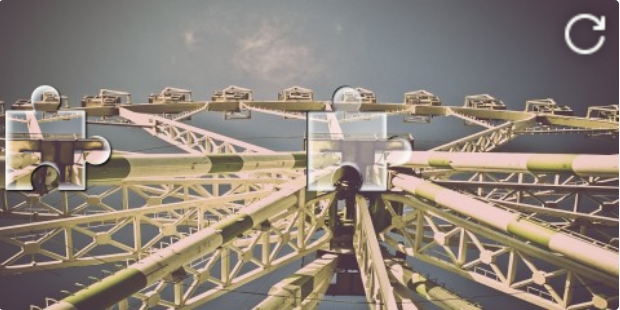target: (307, 86, 412, 191)
